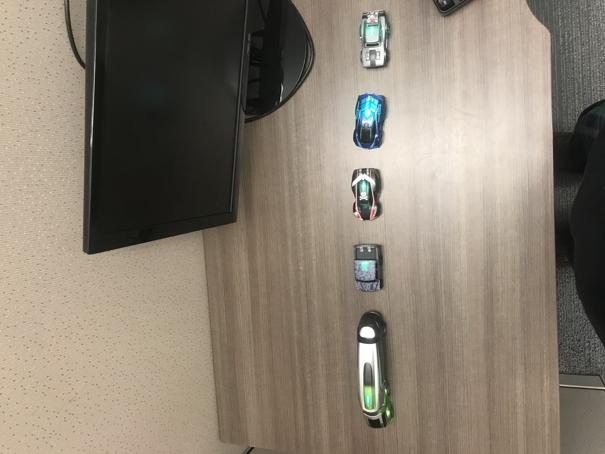Charger: (357, 10, 392, 72)
Freewheel: (356, 310, 396, 428)
MXT: (352, 242, 388, 293)
Shock: (351, 94, 386, 150)
Skull: (350, 167, 382, 221)
